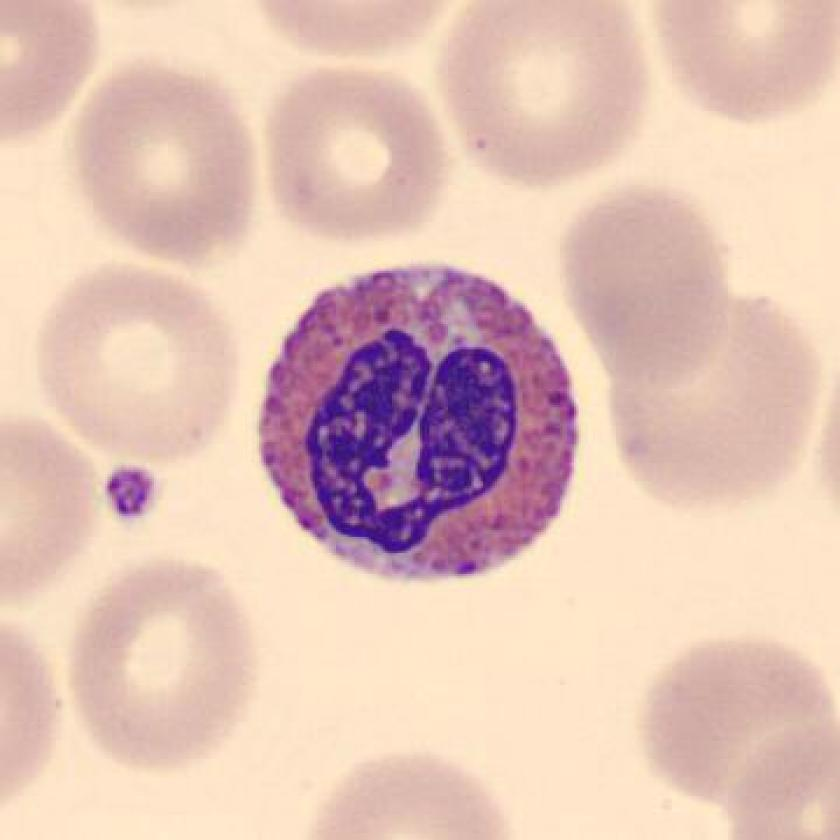eosinophil: (249, 253, 599, 598), (736, 406, 748, 411)
